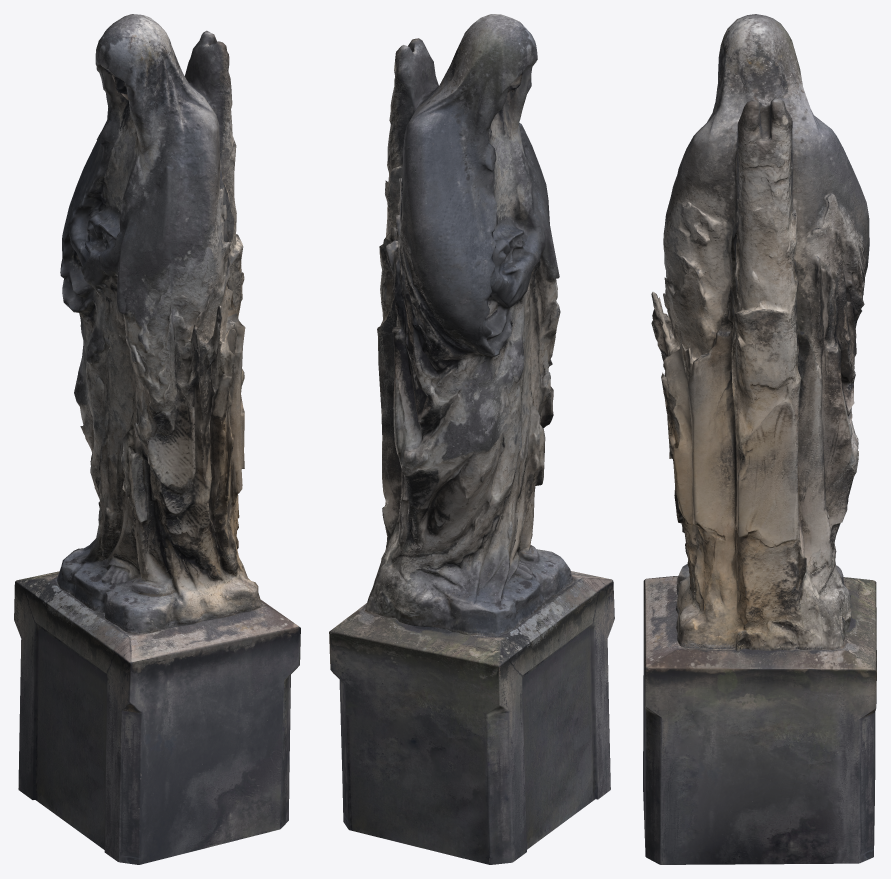
File: sm_GraveSculpture_09_01.fbx
3 views of the same model, side by side, from view 1: azimuth 30°, elevation 25°; view 2: azimuth 150°, elevation 25°; view 3: azimuth 270°, elevation 25° (orthographic).
Visible parts, largest first — view 1: sm_GraveSculpture_09_01_LOD0; view 2: sm_GraveSculpture_09_01_LOD0; view 3: sm_GraveSculpture_09_01_LOD0.
Part boxes in pixels (left/top/right/bottom): sm_GraveSculpture_09_01_LOD0: left=14, top=14, right=300, bottom=864; sm_GraveSculpture_09_01_LOD0: left=329, top=14, right=614, bottom=864; sm_GraveSculpture_09_01_LOD0: left=643, top=14, right=876, bottom=864.
Size of the model in its own units: 73.49 by 83.88 by 315.
